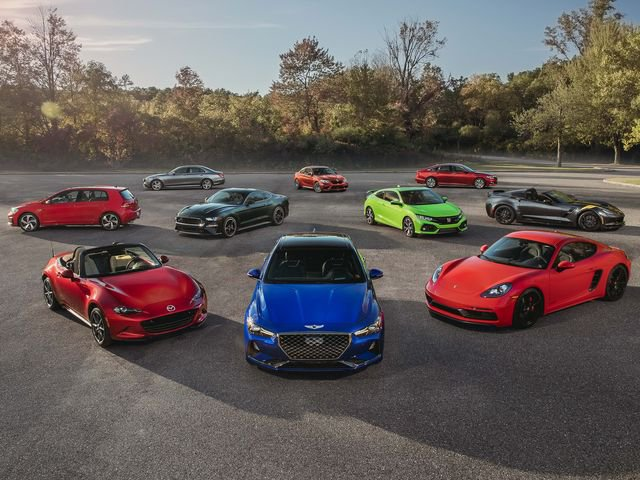car: (422, 229, 631, 336), (240, 228, 388, 378), (40, 240, 208, 348), (5, 182, 139, 234), (363, 184, 470, 240), (172, 188, 291, 237), (483, 187, 626, 219), (137, 161, 224, 196), (416, 163, 499, 189), (291, 163, 349, 197)
